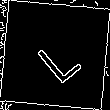L_NW: (27, 25, 83, 85)
